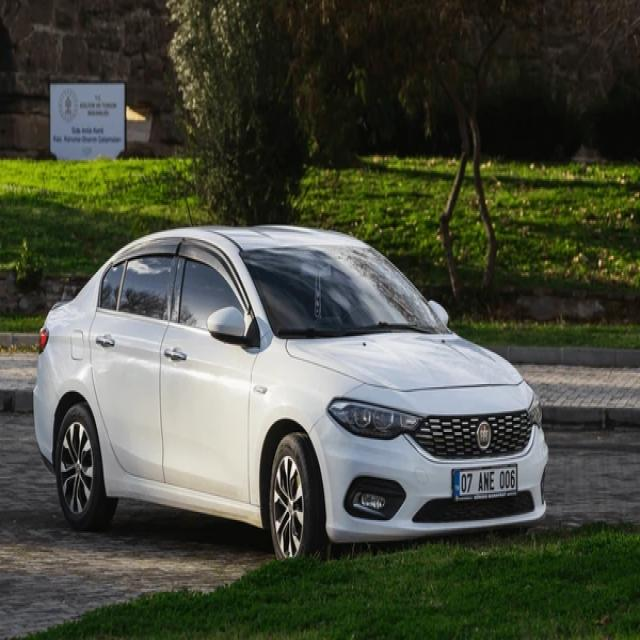fiat: (474, 421, 494, 452)
